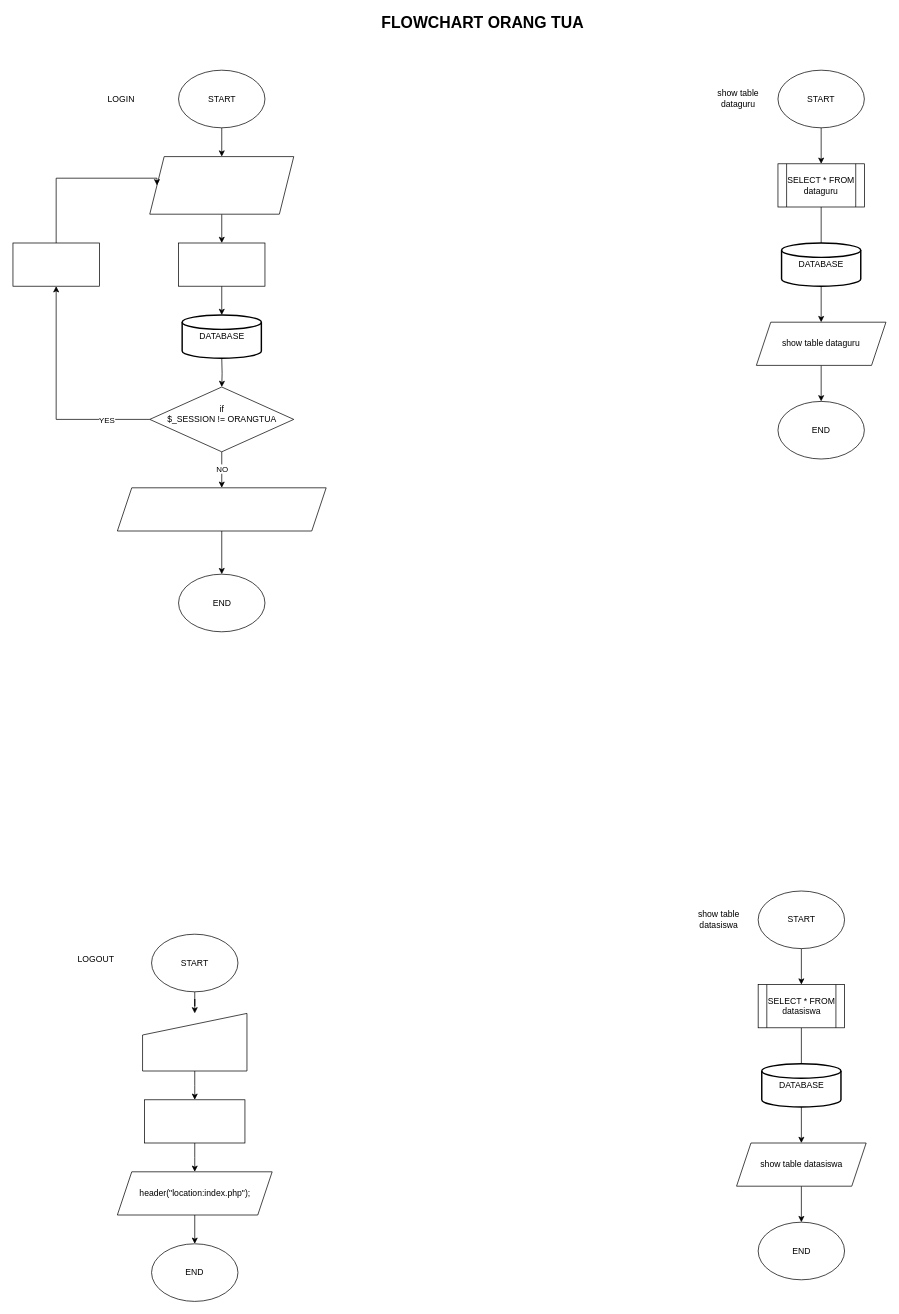
This 899x1314 diagram has some shape labels left out. The shapes that lost their labels are listed below. From the top down, each one's centre as x and y in pixels, then its label:
[221,185]: INPUT username=$username; password=$password;
[55,264]: alert("username atau password salah")
[221,264]: action="check.php" method="post"
[221,509]: header("location:orangtua/dashboard.php");
[194,1042]: KLIK LOGOUT
[194,1121]: session_start(); session_unset(); session_destroy();
